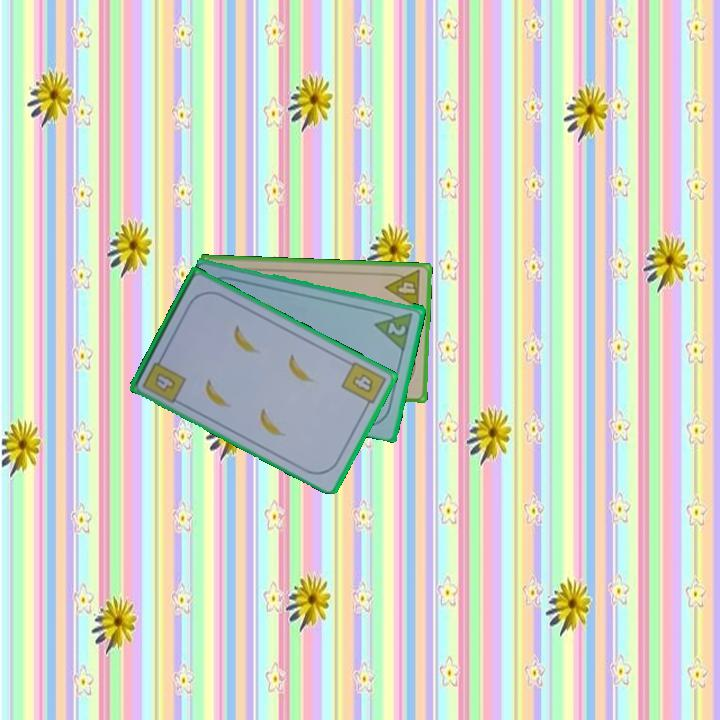2p: (372, 306, 416, 352)
4b: (338, 358, 389, 412), (139, 351, 189, 406)
4p: (382, 267, 424, 311)
